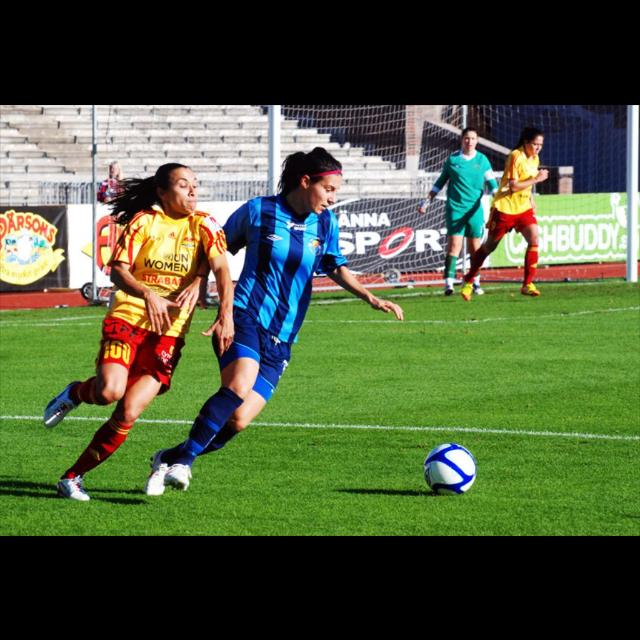Football: (424, 441, 476, 497)
